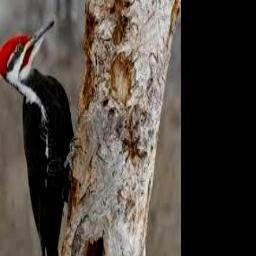Woodpecker: (0, 18, 75, 256)
